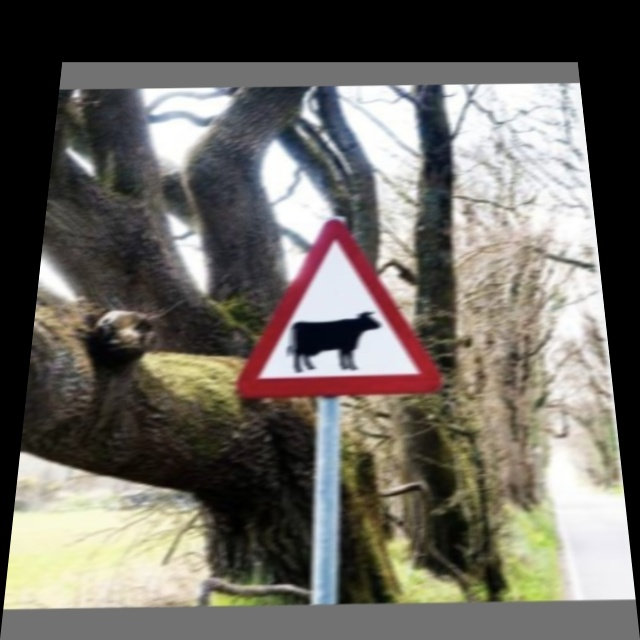Cattle: (236, 215, 449, 399)
